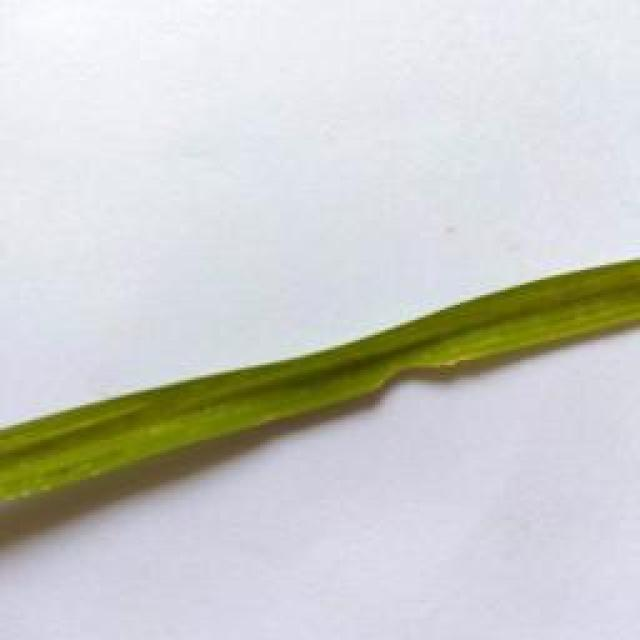Healthy-Plant: (0, 256, 640, 507)
